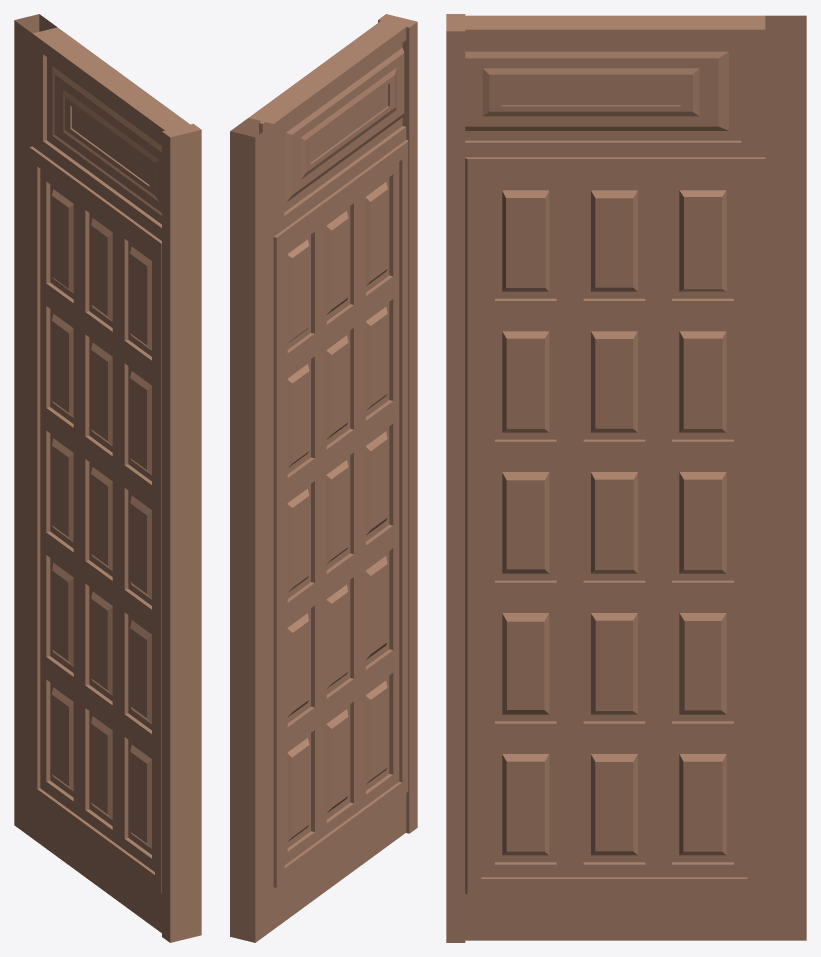
The model's file is BC_Door_L.fbx.
The picture shows the model from 3 angles, left to right: view 1: azimuth 30°, elevation 25°; view 2: azimuth 150°, elevation 25°; view 3: azimuth 270°, elevation 25°; orthographic projection. The views are drawn at different scales.
Visible parts, largest first — view 1: BC_Door_L; view 2: BC_Door_L; view 3: BC_Door_L.
Part boxes in pixels (box(x1,y1,x2,y2)): BC_Door_L: box(14, 14, 201, 942); BC_Door_L: box(230, 14, 417, 942); BC_Door_L: box(446, 14, 806, 942).
Bounding box in the file's own units: 25.42 × 619 × 222.
